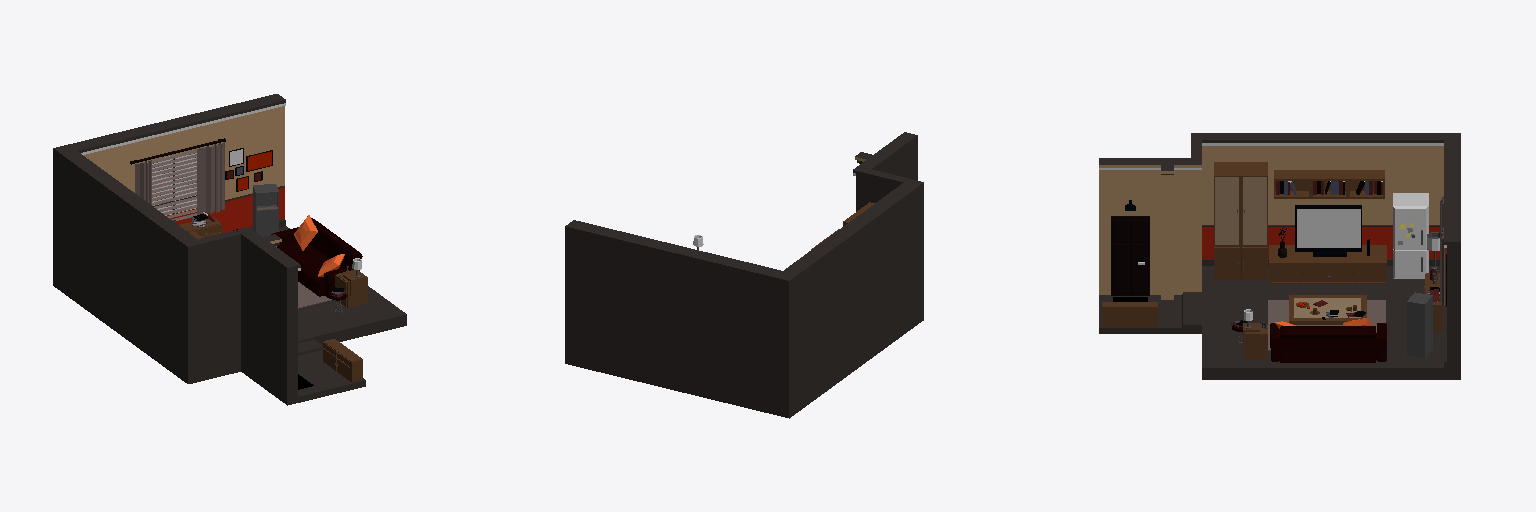
Rendered from room.1.obj.
3 views of the same model, side by side, from view 1: azimuth 30°, elevation 25°; view 2: azimuth 150°, elevation 25°; view 3: azimuth 270°, elevation 25° (orthographic).
Parts seen in each view (by area): view 1: Cube.053_Cube.077; view 2: Cube.053_Cube.077; view 3: Cube.053_Cube.077.
Part boxes in pixels (x1,y1,x2,y2): Cube.053_Cube.077: (53,94,406,405); Cube.053_Cube.077: (565,132,923,418); Cube.053_Cube.077: (1099,133,1460,379).
Bounding box in the file's own units: 29.89 × 17.52 × 41.86.